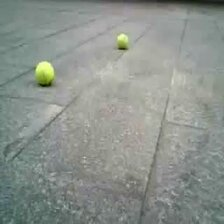tennis: (34, 61, 54, 83), (116, 34, 129, 47)
